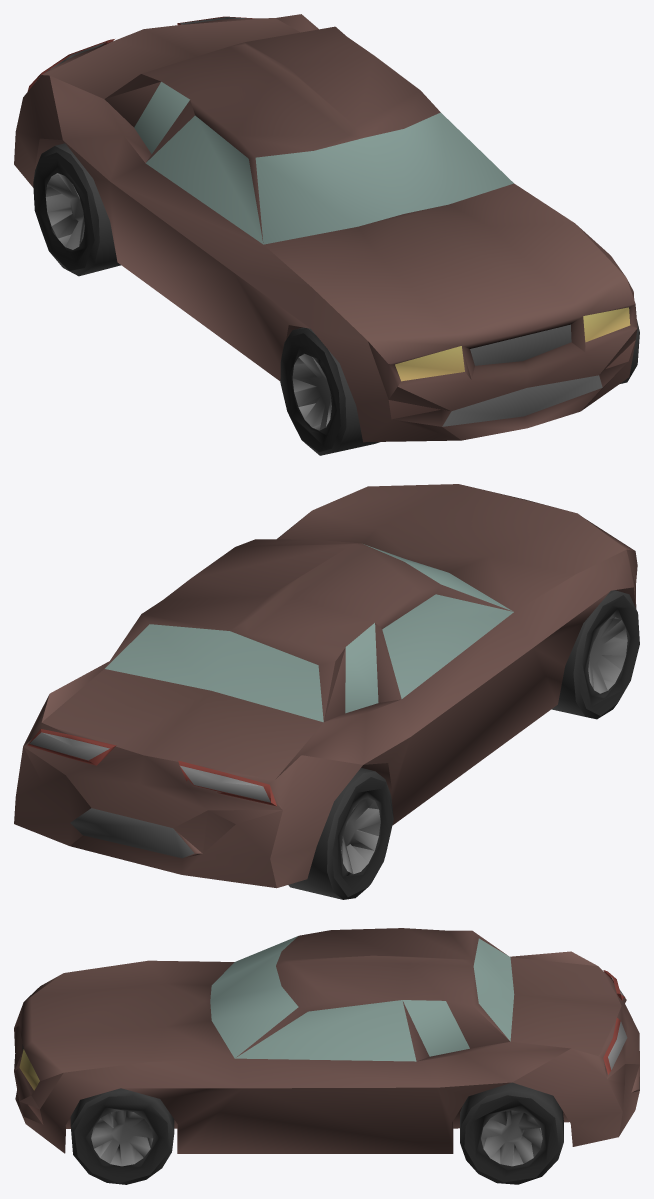
File: Car7.fbx
3 renders of one model, top to bottom at view 1: azimuth 30°, elevation 25°; view 2: azimuth 150°, elevation 25°; view 3: azimuth 270°, elevation 25°, orthographic. The views are drawn at different scales.
Visible parts, largest first — view 1: Car 7; view 2: Car 7; view 3: Car 7.
Boxes of the visible parts, x1,y1,x2,y2 form: Car 7: (14, 14, 639, 455); Car 7: (14, 484, 639, 899); Car 7: (14, 928, 639, 1184).
Bounding box in the file's own units: 5.92 × 13.49 × 4.11.
